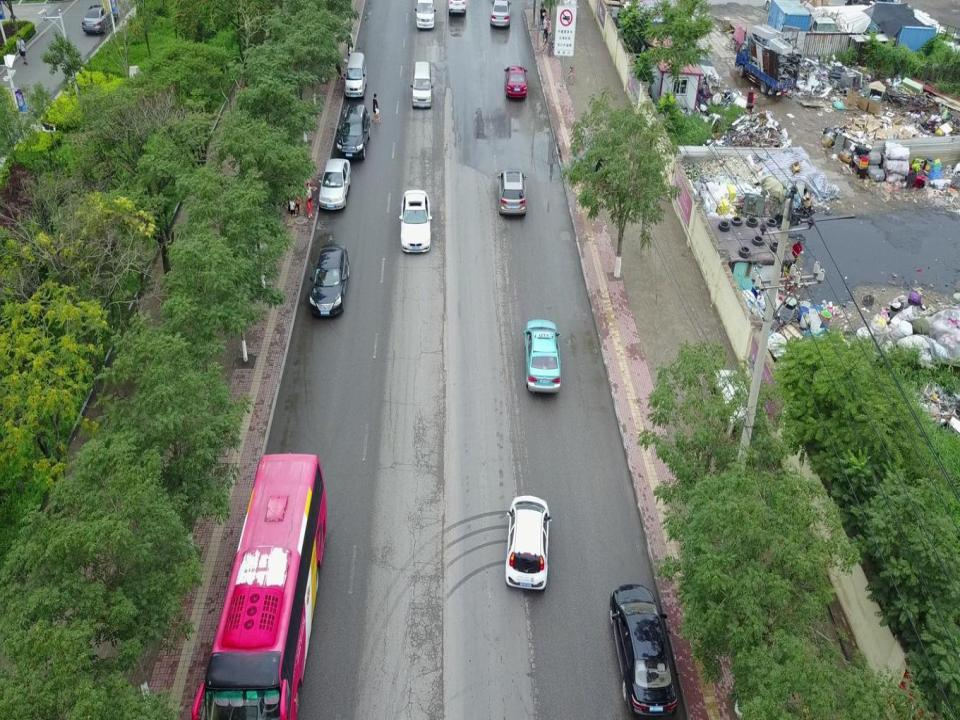bus: (191, 452, 327, 720)
car: (608, 583, 678, 719), (505, 495, 553, 593), (308, 243, 350, 318), (523, 318, 563, 394), (398, 190, 433, 254), (336, 103, 371, 161), (318, 158, 352, 211), (496, 170, 528, 216), (81, 4, 119, 33), (503, 65, 528, 100), (489, 0, 511, 27), (448, 0, 467, 15)
truck: (734, 21, 801, 97)
van: (342, 52, 367, 99), (410, 60, 434, 108), (415, 0, 436, 30)
